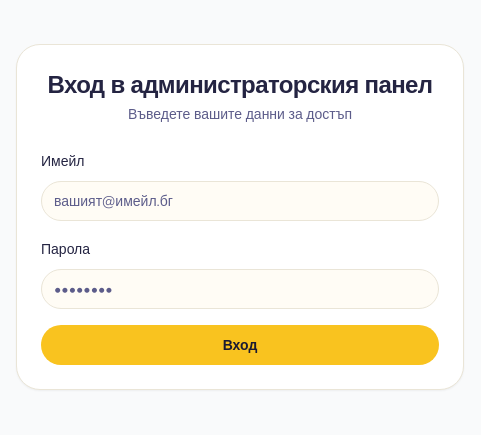
Scenario: Login Page › Form Validation › should show error when email is empty
Click the button "Вход" at (240, 345), box [41,325,439,365]
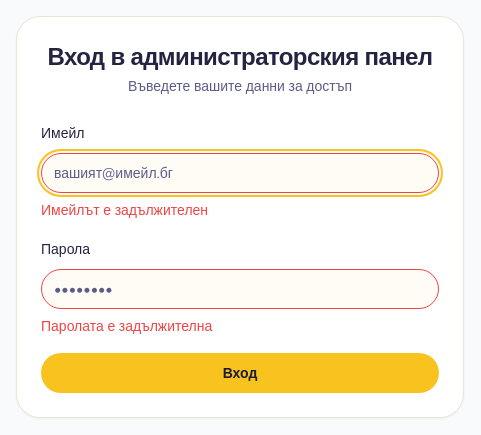
Expected: the text "Имейлът е задължителен" is shown, [41,201,208,220]
